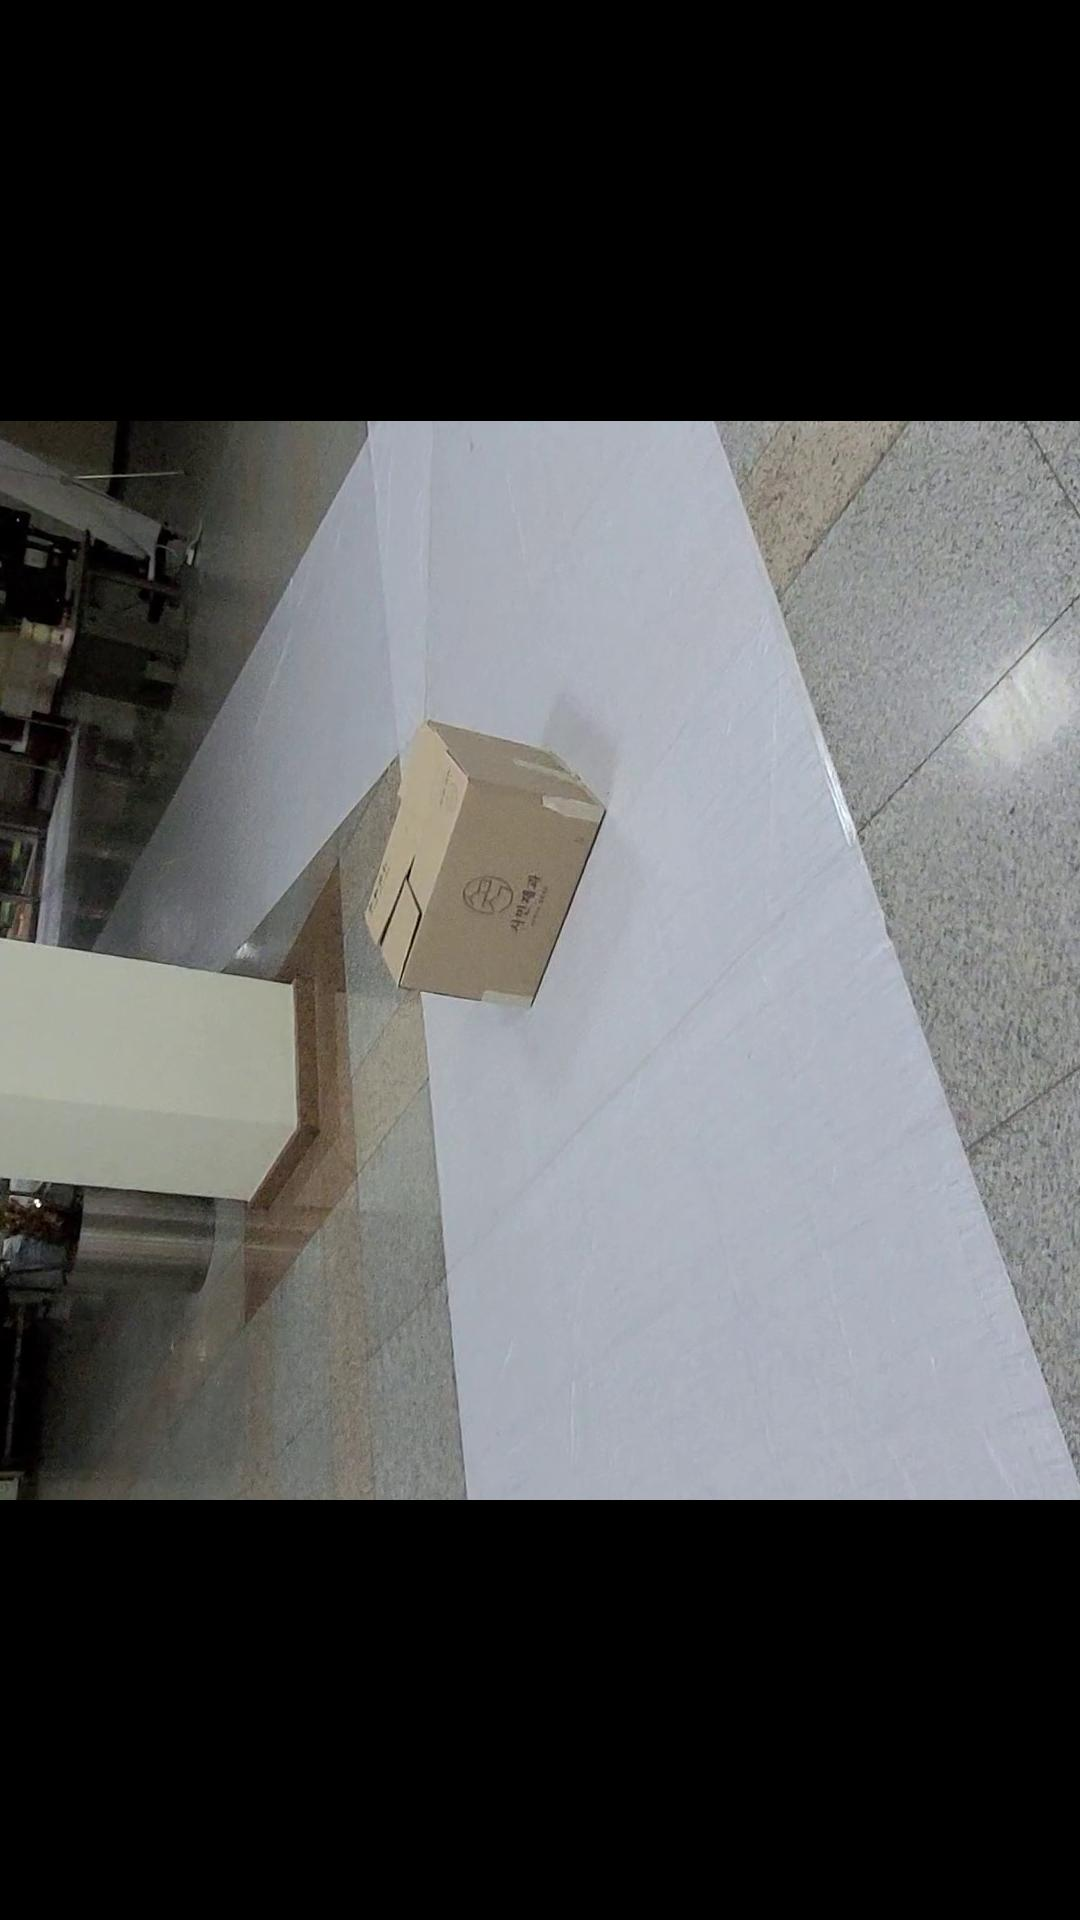Box: (349, 702, 636, 1036)
